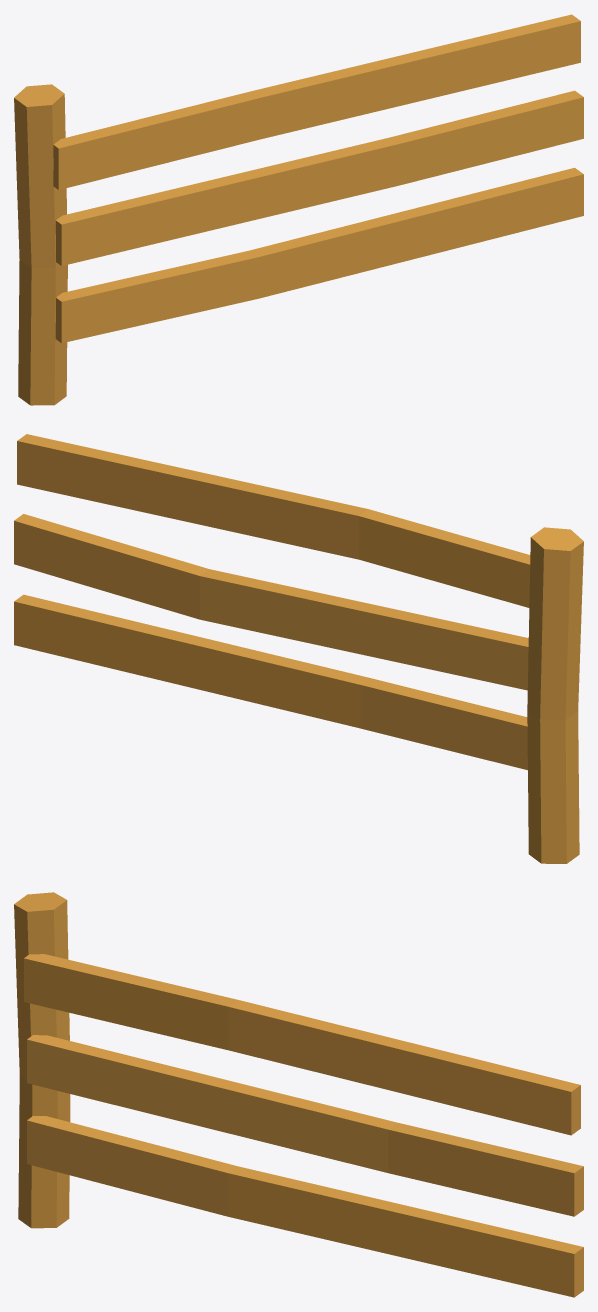
The model's file is fence-start.glb.
3 renders of one model, top to bottom at view 1: azimuth 30°, elevation 25°; view 2: azimuth 150°, elevation 25°; view 3: azimuth 330°, elevation 25°, orthographic. The views are drawn at different scales.
Visible parts, largest first — view 1: fence-start; view 2: fence-start; view 3: fence-start.
Part boxes in pixels (x1=…): fence-start: x1=14, y1=14, x2=583, y2=405; fence-start: x1=14, y1=434, x2=583, y2=863; fence-start: x1=14, y1=892, x2=583, y2=1297.
Size of the model in its own units: 2.09 by 1.11 by 0.2235.
